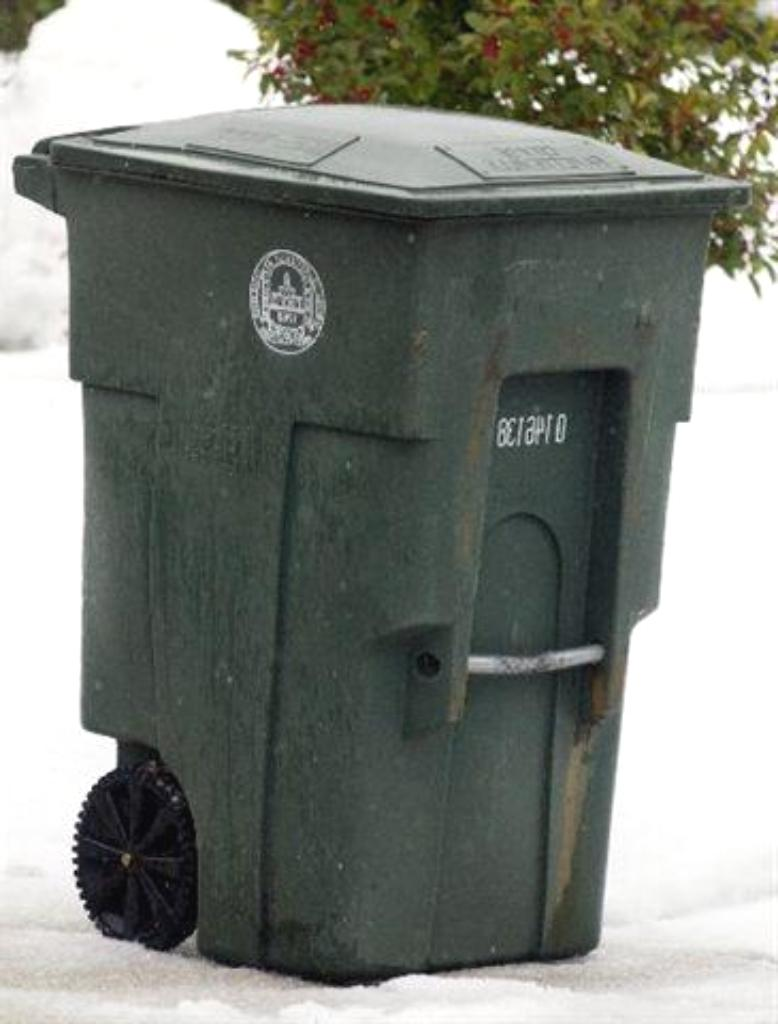dustbin: (18, 89, 747, 965)
